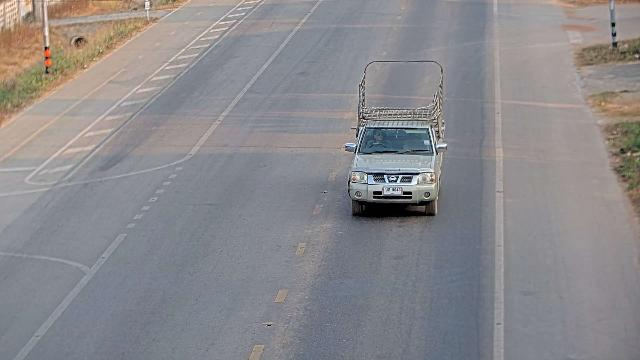pickup-truck: (344, 59, 448, 217)
